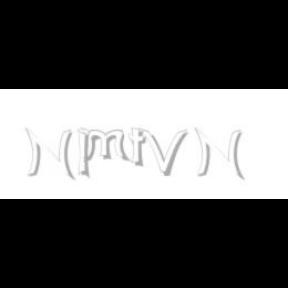I: (78, 128, 90, 180)
N: (24, 128, 74, 180), (194, 128, 242, 180)
V: (140, 128, 188, 176)
m: (79, 128, 131, 162)
t: (129, 128, 151, 168)
